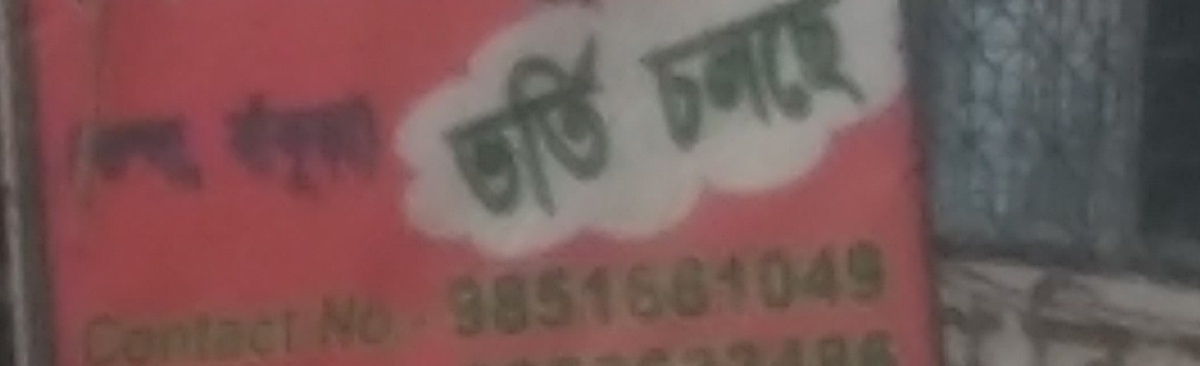text: (641, 20, 657, 247), (417, 20, 432, 247), (433, 20, 448, 247), (449, 20, 464, 247), (465, 20, 480, 247), (481, 20, 496, 247), (497, 20, 512, 247), (513, 20, 528, 247), (529, 20, 544, 247), (545, 20, 560, 247), (561, 20, 576, 247), (577, 20, 592, 247), (593, 20, 608, 247), (609, 20, 624, 247), (625, 20, 640, 247), (641, 3, 656, 156), (657, 3, 672, 156), (673, 3, 688, 156), (689, 3, 704, 156), (705, 3, 720, 156), (721, 3, 736, 156), (737, 3, 752, 156), (753, 3, 768, 156), (769, 3, 784, 156), (785, 3, 800, 156), (801, 3, 816, 156), (817, 3, 832, 156), (833, 3, 848, 156), (849, 3, 864, 156), (865, 3, 880, 156), (209, 77, 224, 206), (225, 77, 240, 206), (241, 77, 256, 206), (257, 77, 272, 206), (273, 77, 288, 206), (289, 77, 304, 206), (305, 77, 320, 206), (321, 77, 336, 206), (337, 77, 352, 206), (353, 77, 368, 206), (369, 77, 384, 206), (449, 226, 464, 343), (465, 226, 480, 343), (481, 226, 496, 343), (497, 226, 512, 343), (513, 226, 528, 343), (529, 226, 544, 343), (545, 226, 560, 343), (561, 226, 576, 343), (577, 226, 592, 343), (593, 226, 608, 343), (609, 226, 624, 343), (625, 226, 640, 343), (641, 226, 656, 343), (657, 226, 672, 343), (673, 226, 688, 343), (689, 226, 704, 343), (705, 226, 720, 343), (721, 226, 736, 343), (737, 226, 752, 343), (753, 226, 768, 343), (769, 226, 784, 343), (785, 226, 800, 343), (801, 226, 816, 343), (817, 226, 832, 343), (833, 226, 848, 343), (849, 226, 864, 343), (865, 226, 880, 343), (881, 226, 896, 343), (65, 105, 80, 210), (81, 105, 96, 210), (97, 105, 112, 210), (113, 105, 128, 210), (129, 105, 144, 210), (145, 105, 160, 210), (161, 105, 176, 210), (177, 105, 192, 210), (193, 105, 208, 210), (385, 77, 397, 206), (632, 3, 640, 156), (289, 292, 305, 363), (881, 3, 888, 156), (81, 292, 96, 363), (97, 292, 112, 363), (113, 292, 128, 363), (129, 292, 144, 363), (145, 292, 160, 363), (161, 292, 176, 363), (177, 292, 192, 363), (193, 292, 208, 363), (209, 292, 224, 363), (225, 292, 240, 363), (241, 292, 256, 363), (257, 292, 272, 363), (273, 292, 288, 363), (321, 291, 336, 358), (337, 291, 352, 358), (353, 291, 368, 358), (369, 291, 384, 358), (385, 291, 400, 358), (401, 291, 411, 358), (497, 323, 512, 366), (513, 323, 528, 366), (529, 323, 544, 366), (545, 323, 560, 366), (561, 323, 576, 366), (577, 323, 592, 366), (593, 323, 608, 366), (609, 323, 624, 366), (625, 323, 640, 366), (641, 323, 656, 366), (657, 323, 672, 366), (673, 323, 688, 366), (689, 323, 704, 366), (705, 323, 720, 366), (721, 323, 736, 366), (737, 323, 752, 366), (753, 323, 768, 366), (769, 323, 784, 366), (785, 323, 800, 366), (801, 323, 816, 366), (817, 323, 832, 366), (833, 323, 848, 366), (849, 323, 864, 366), (865, 323, 880, 366), (881, 323, 896, 366), (443, 226, 448, 343), (897, 323, 909, 366), (313, 291, 320, 358), (897, 226, 901, 343), (61, 105, 64, 210), (77, 292, 80, 363), (209, 105, 211, 210)
